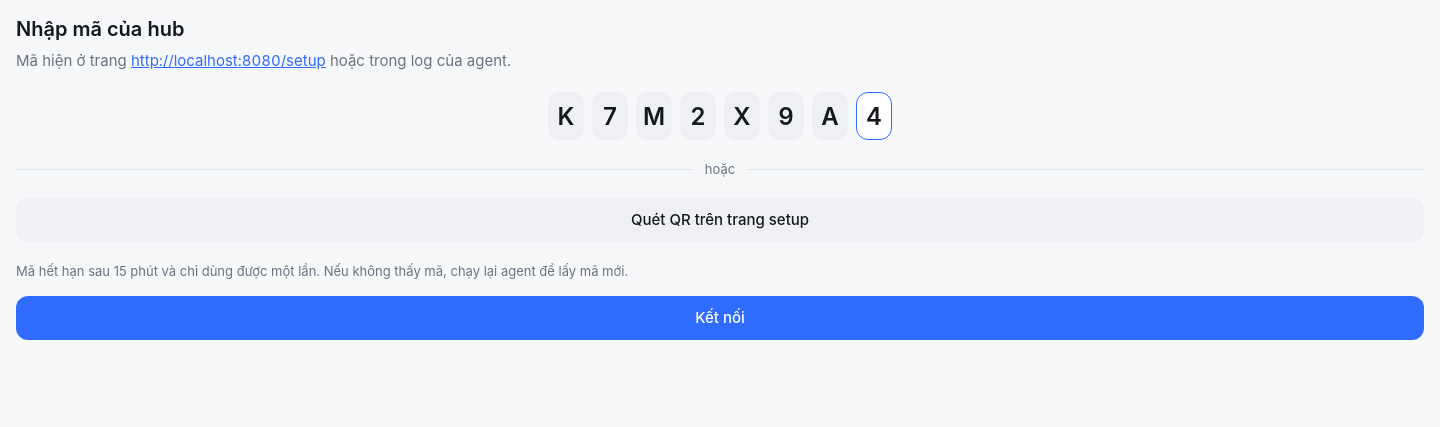
StepCode › 409 → belongs-to-other-account explanation
Click the button "Kết nối" at (720, 318), box [16,296,1424,340]
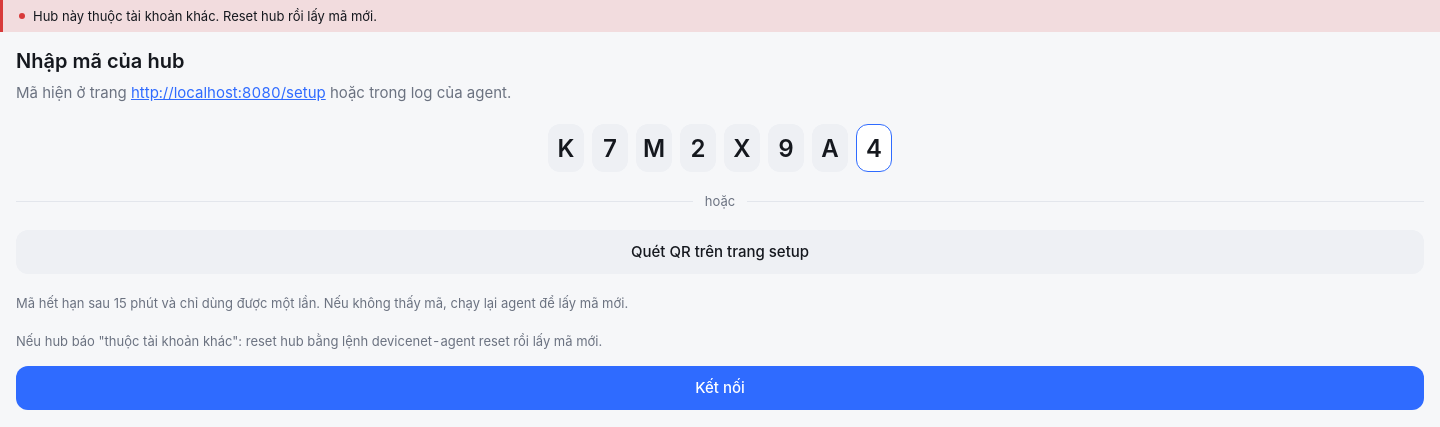
Expected: the text "Hub này thuộc tài khoản khác. Reset hub rồi lấy mã mới." is shown, [33,8,377,24]
Expected: the text "devicenet-agent reset" is shown, [372,333,510,349]
